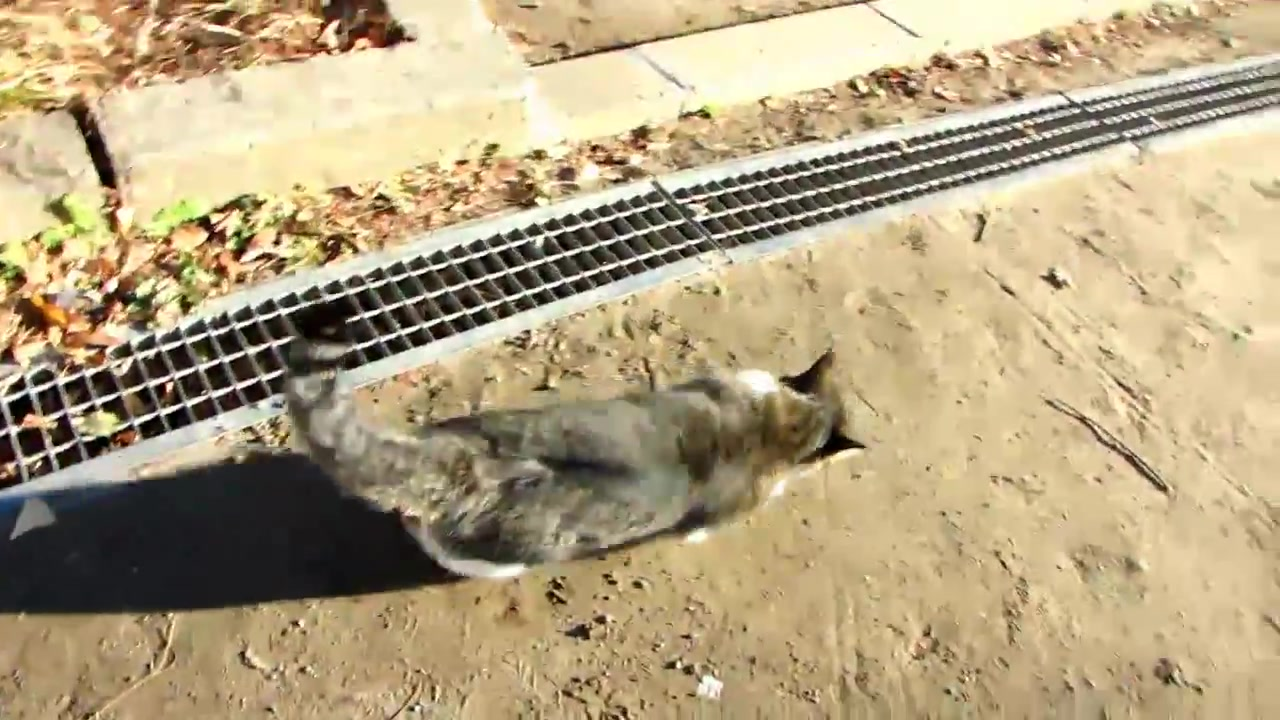cat: (278, 304, 868, 583)
